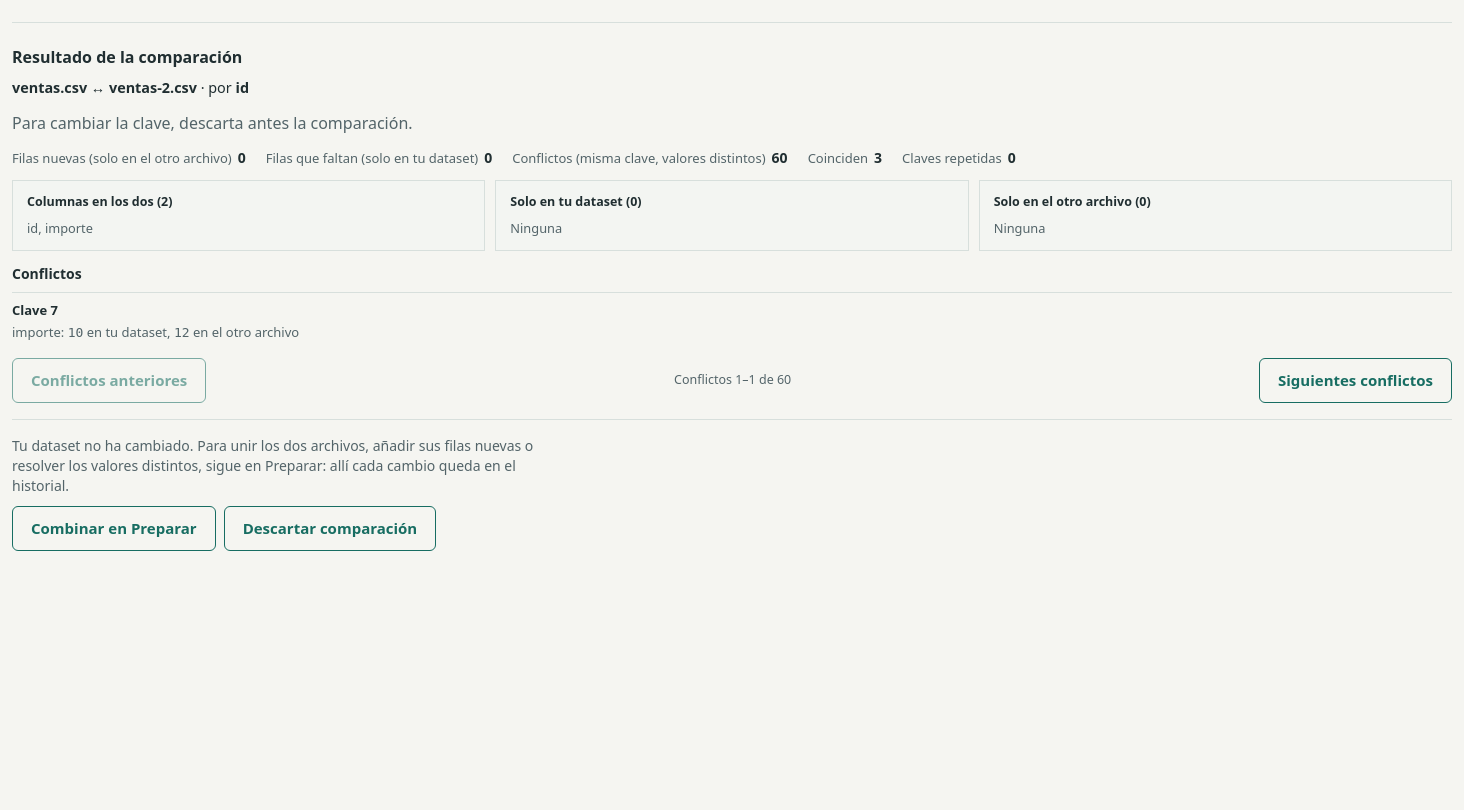
Test: DatasetComparisonSection (Revisar) › pagina los conflictos sin pedir decisiones, permite cancelar la carga y avisa si falla
Check: the navigation bar named "Paginación de conflictos" shows "Conflictos 1–1 de 60", box [12,358,1452,402]
Click the button "Siguientes conflictos" at coordinates (1356, 380), box [1259,358,1452,402]
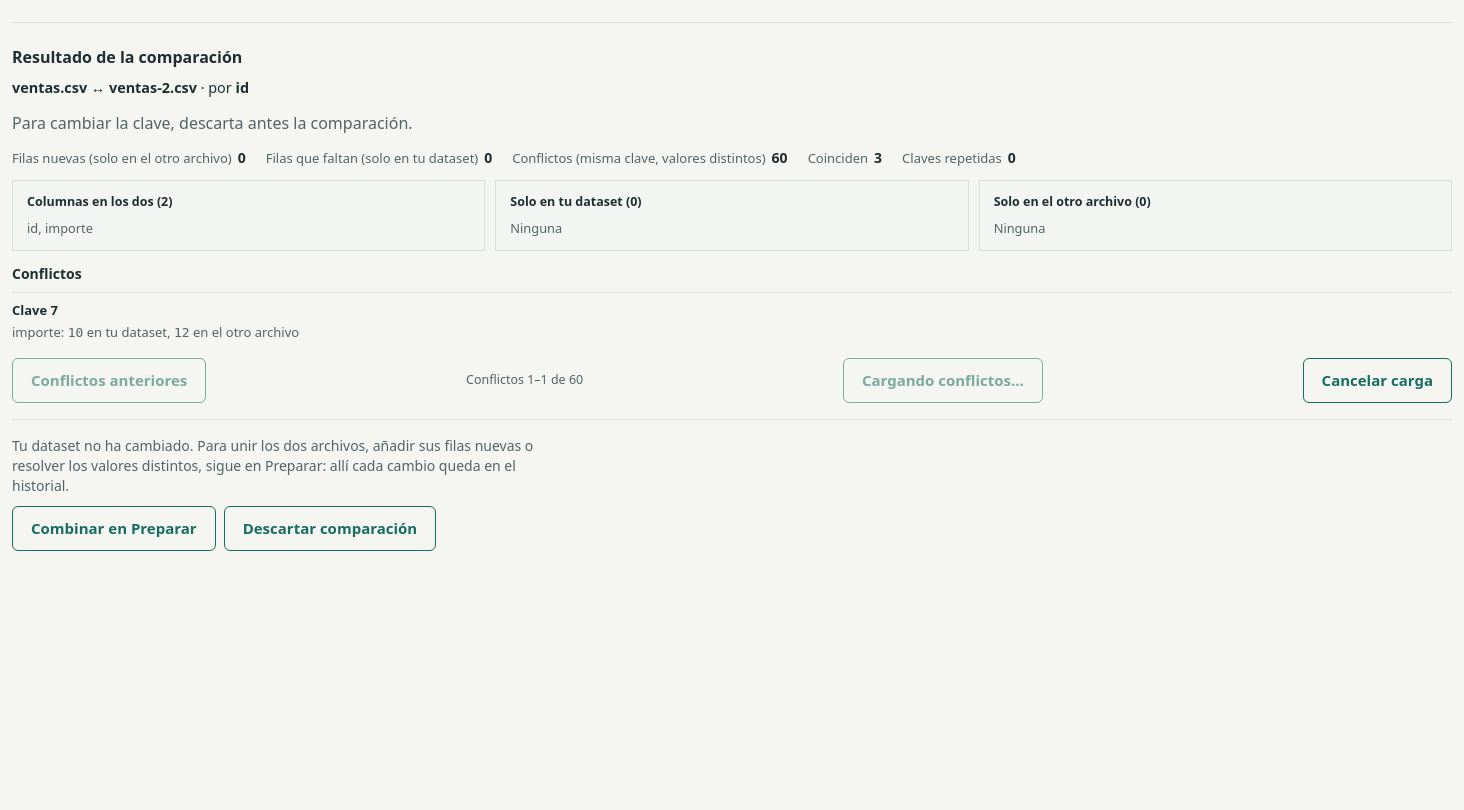
Click the button "Cancelar carga" at coordinates (1377, 380), box [1303,358,1452,402]
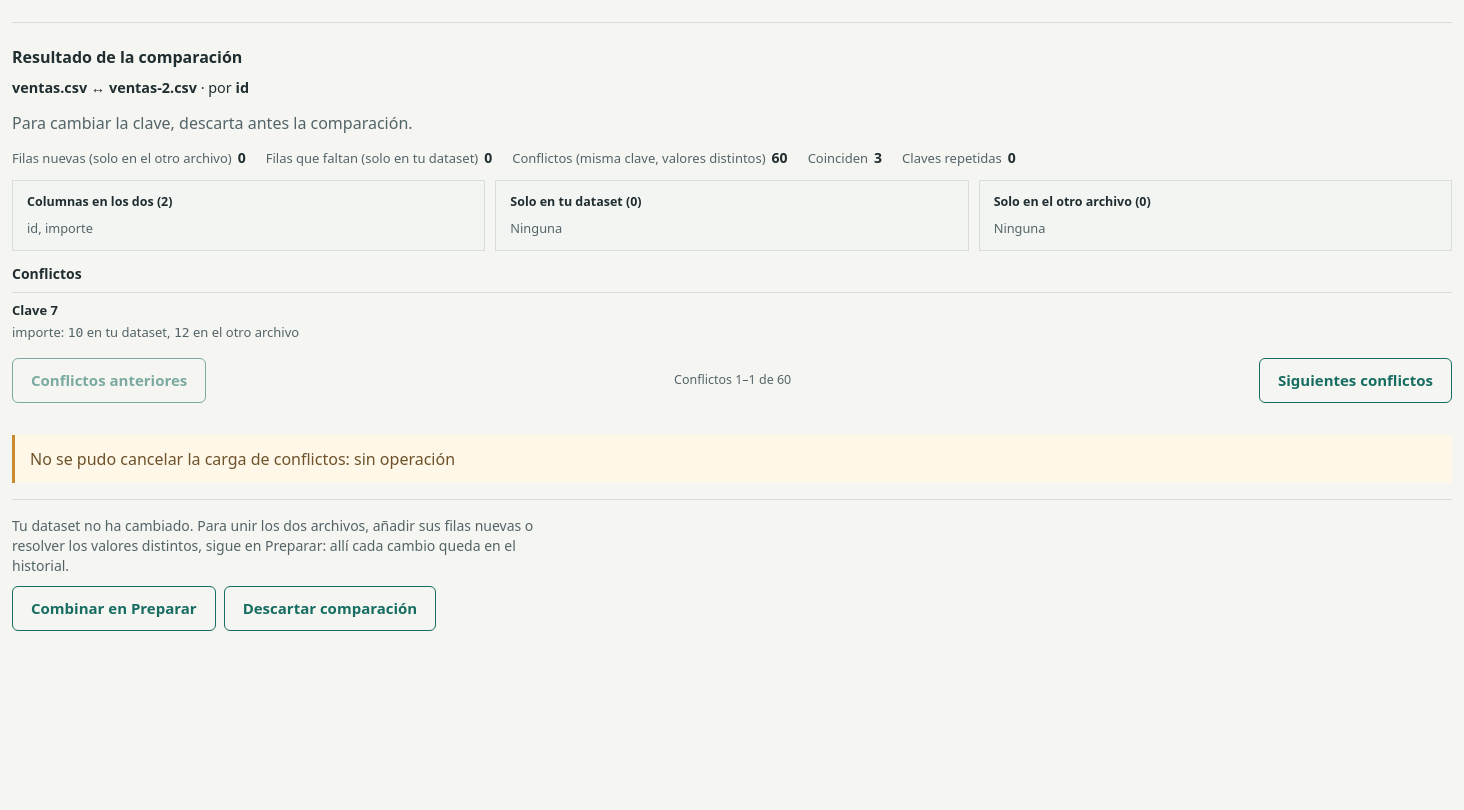
Check: the message reads "No se pudo cancelar la carga de conflictos: sin operación", box [12,434,1452,482]
Check: the button "Cancelar carga" is gone
